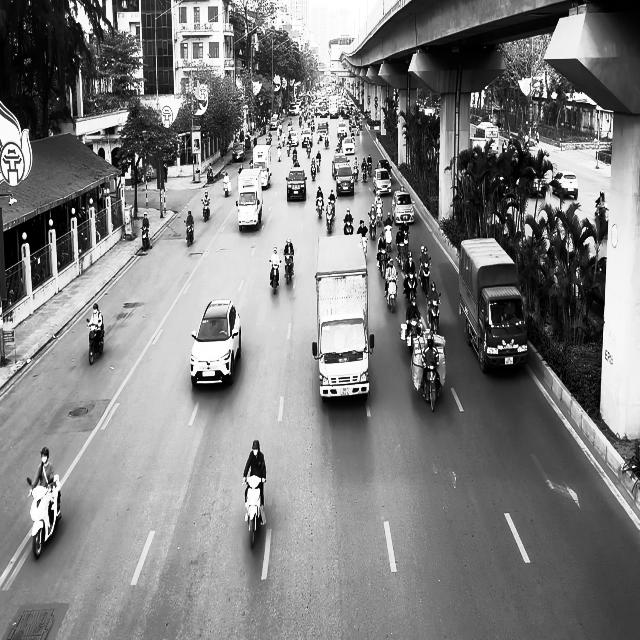bus: (458, 236, 528, 374)
car: (190, 298, 241, 387), (549, 170, 578, 199), (391, 189, 415, 224), (286, 167, 306, 202), (336, 164, 354, 196), (372, 168, 392, 195), (332, 153, 348, 178), (232, 142, 245, 162), (342, 136, 355, 155)
motorbike: (26, 474, 62, 559), (242, 476, 266, 549), (421, 352, 441, 412), (86, 318, 104, 364), (426, 293, 442, 334), (387, 277, 398, 313), (283, 252, 294, 284), (270, 260, 280, 295), (140, 226, 152, 252), (184, 219, 194, 246), (325, 206, 334, 233), (201, 198, 210, 222), (344, 216, 354, 235), (316, 197, 324, 218), (223, 179, 231, 197), (206, 166, 214, 182)
truck: (312, 234, 374, 401)
